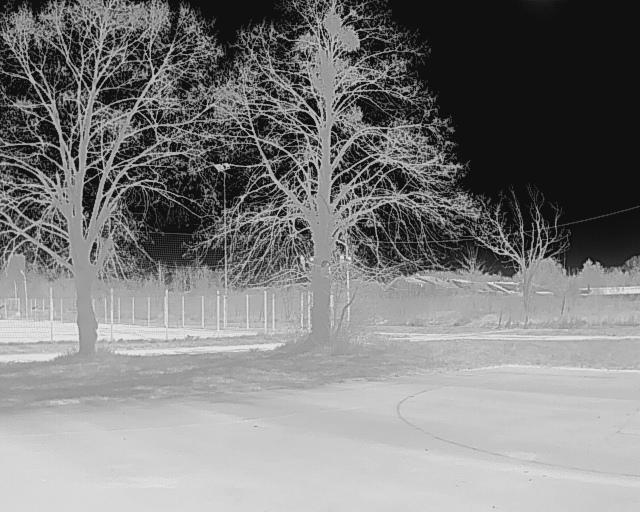drone: (291, 248, 359, 285)
